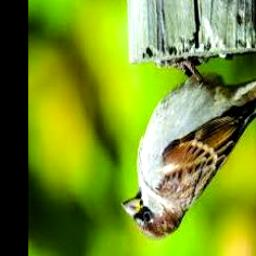Sparrow: (121, 50, 256, 238)
